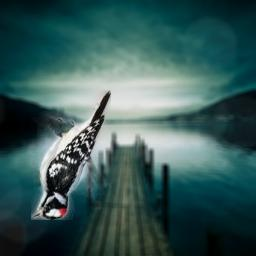Woodpecker: (31, 90, 111, 220)
